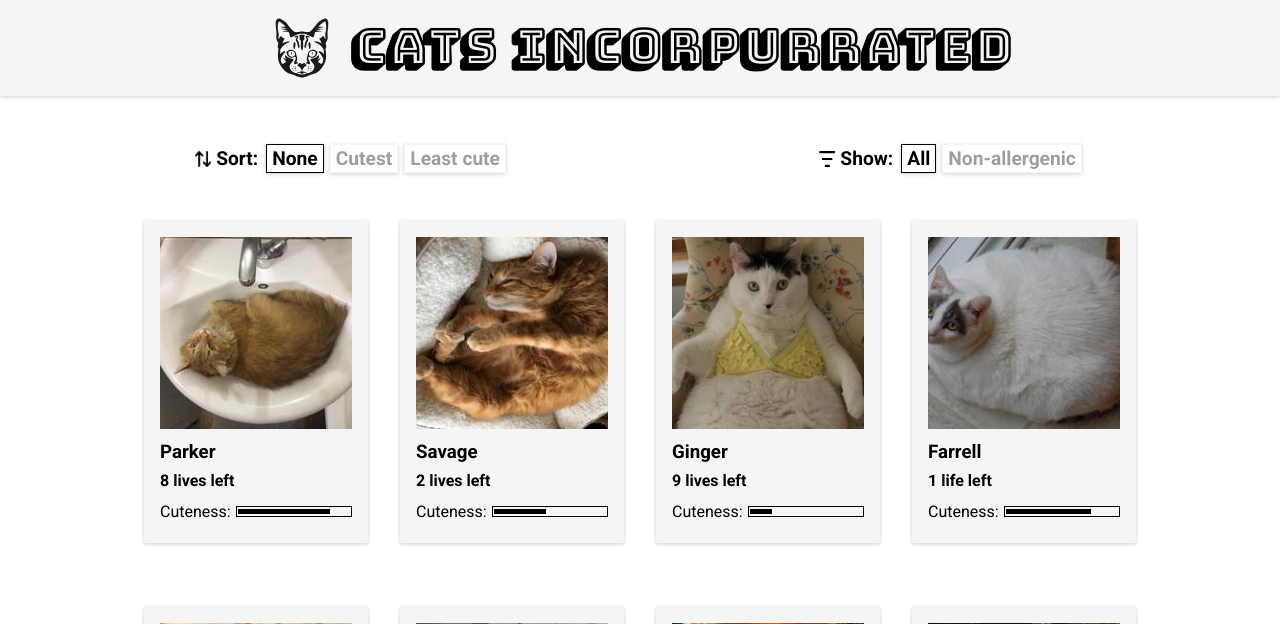
Test case: App integration › shows all 24 cats again when "All" button is pressed
This screenshot has width=1280, height=624.
Click the list item "Non-allergenic": point(1012, 159) [942,144,1082,173]
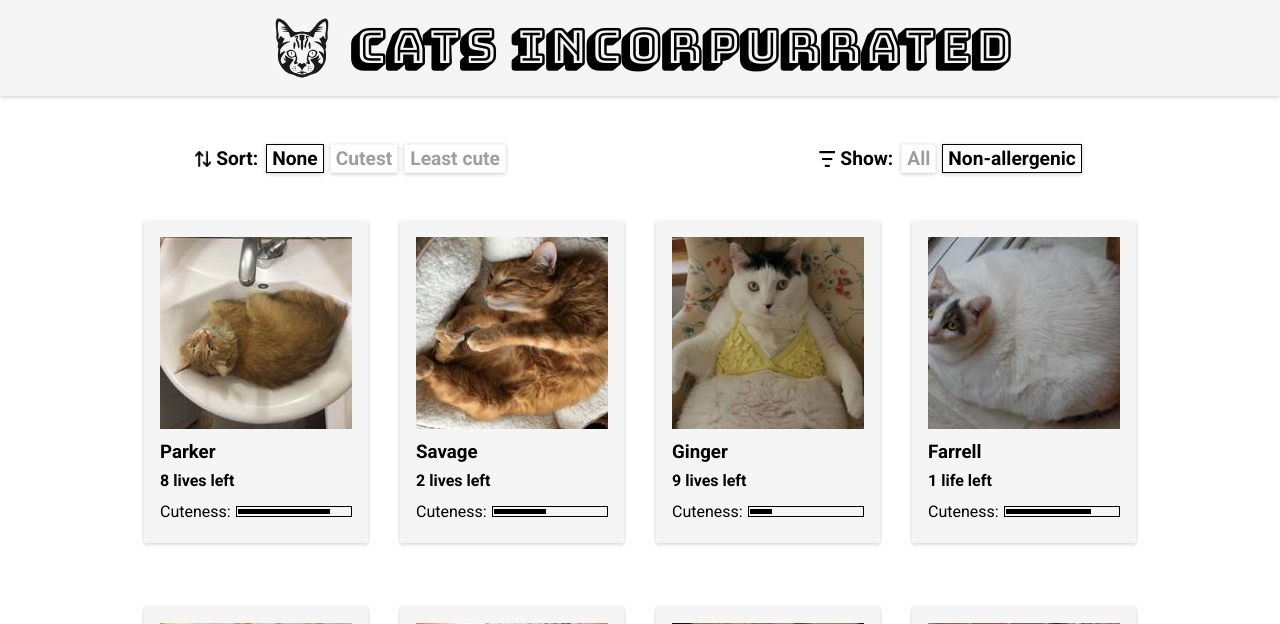
Expected: the number of list items named "cat" is 13
Click the list item "All": point(919, 159) [901,144,936,173]
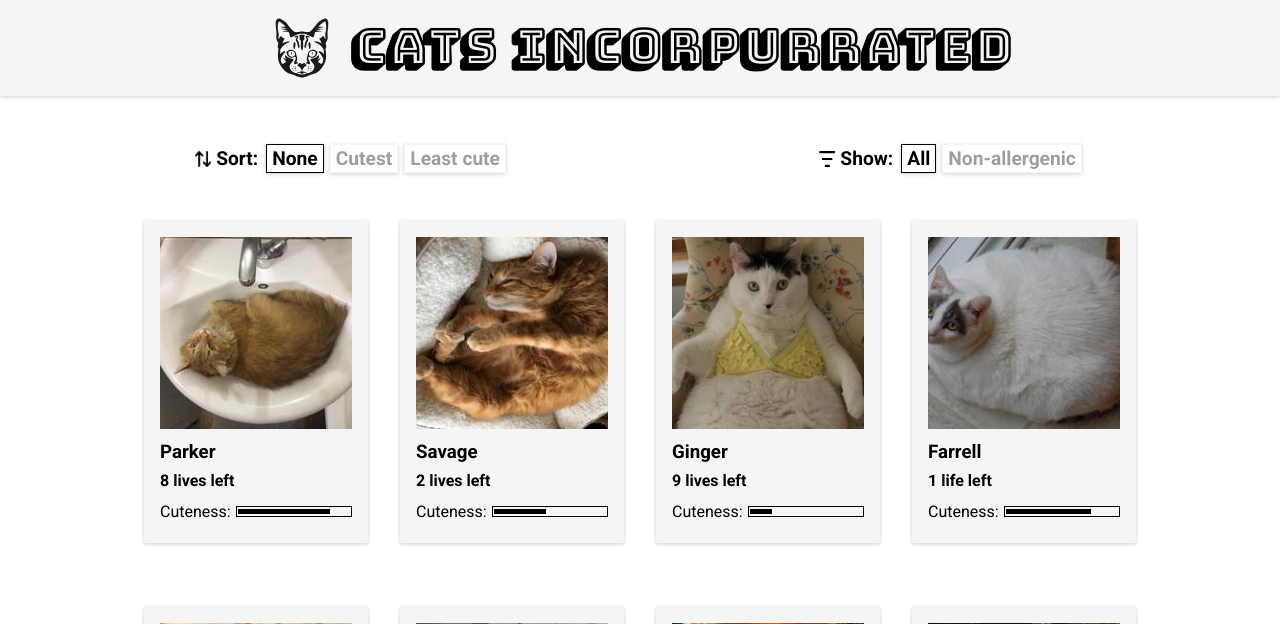
Expected: the number of list items named "cat" is 24
